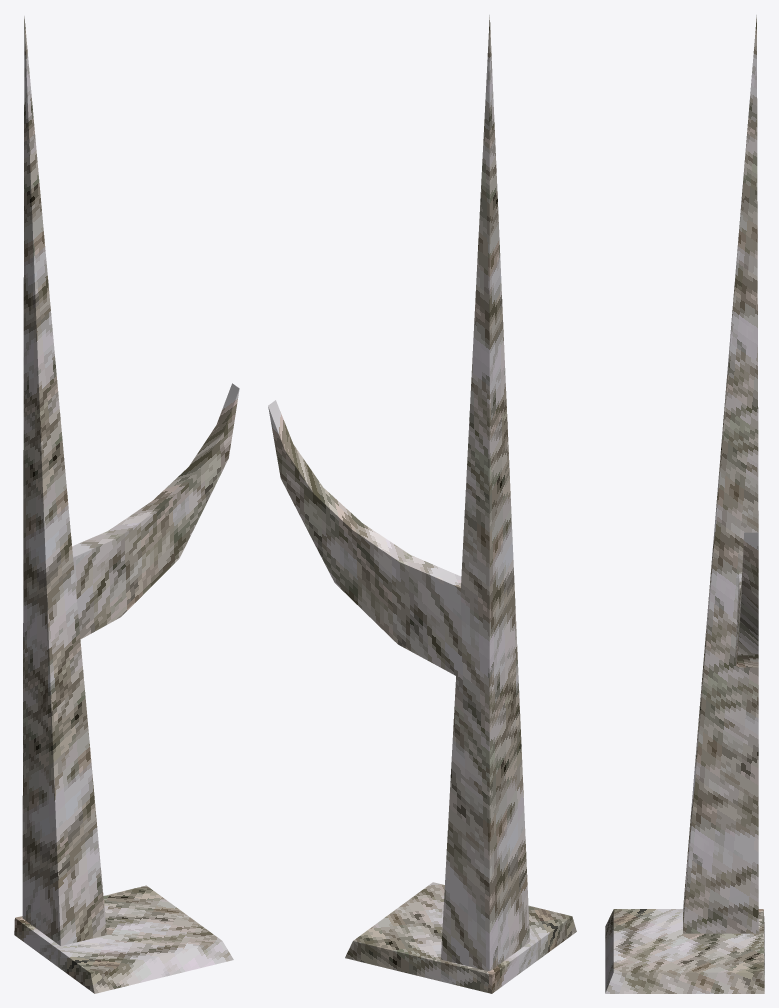
The model's file is frn_quest_fs_sculpture_2_l2.fbx.
3 renders of one model, left to right at view 1: azimuth 30°, elevation 25°; view 2: azimuth 150°, elevation 25°; view 3: azimuth 270°, elevation 25°, orthographic. The views are drawn at different scales.
Parts seen in each view (by area): view 1: mesh_node; view 2: mesh_node; view 3: mesh_node.
Boxes of the visible parts, x1,y1,x2,y2 form: mesh_node: (14, 16, 239, 993); mesh_node: (268, 15, 576, 993); mesh_node: (605, 15, 764, 993).
Bounding box in the file's own units: 0.6172 × 2.53 × 0.4.
